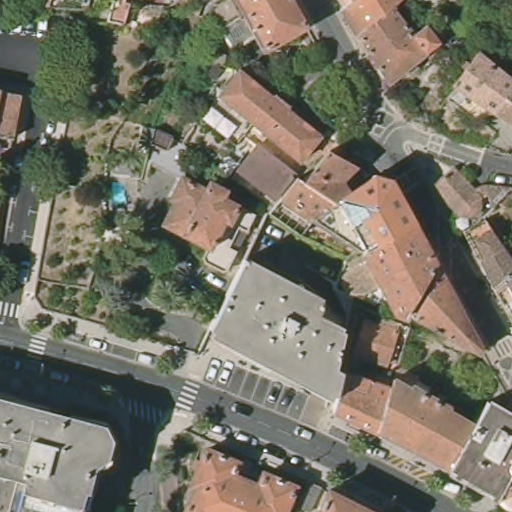pool: (104, 174, 133, 216)
